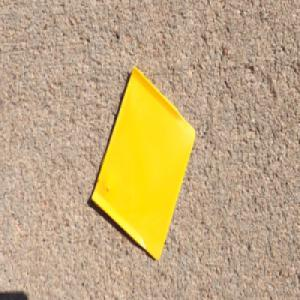PlasticPart: (90, 64, 196, 262)
